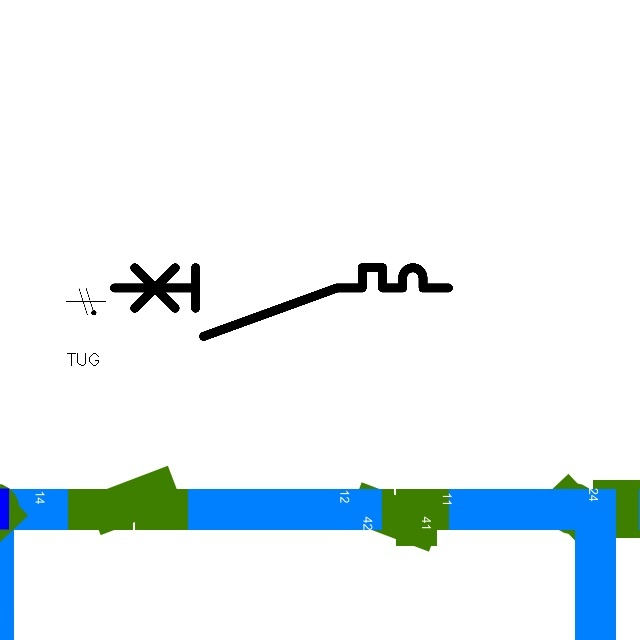interruptor_termomagnetico: (105, 259, 457, 345)
